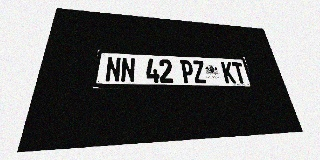2: (159, 59, 173, 83)
4: (146, 58, 160, 83)
K: (221, 62, 236, 84)
N: (105, 57, 121, 82), (120, 57, 135, 82)
P: (180, 60, 195, 83)
T: (231, 62, 247, 84)
Z: (192, 60, 207, 83)
